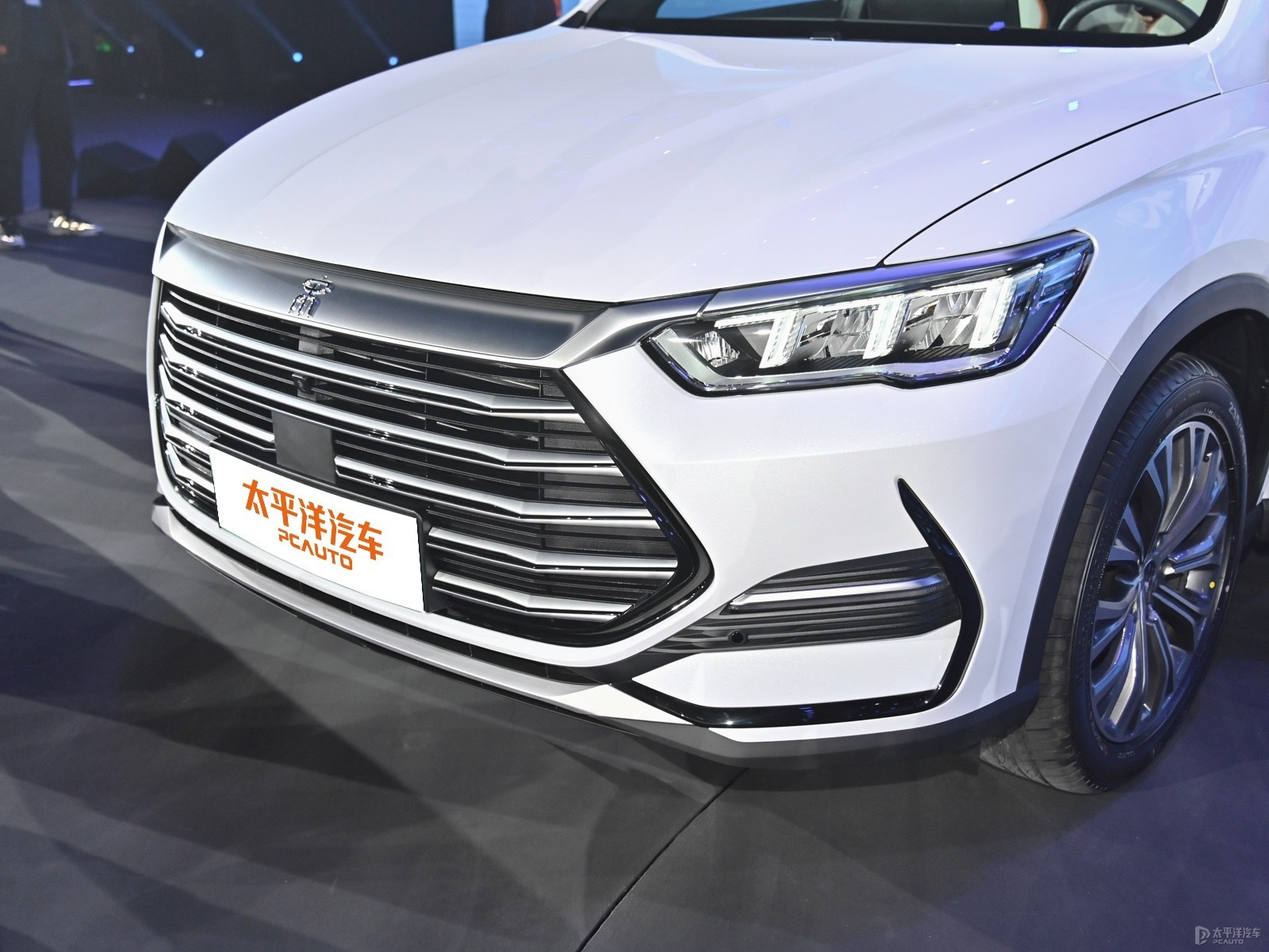BYD Song: (289, 276, 333, 318)
